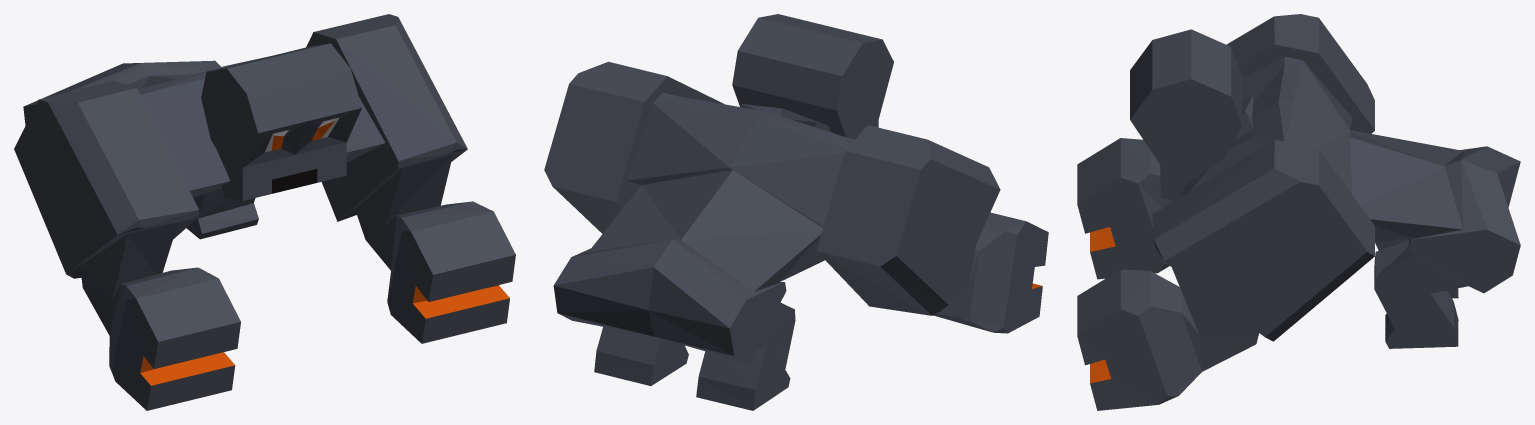
Rendered from kong_000025.obj.
3 views of the same model, side by side, from view 1: azimuth 30°, elevation 25°; view 2: azimuth 150°, elevation 25°; view 3: azimuth 270°, elevation 25° (orthographic). The views are drawn at different scales.
Visible parts, largest first — view 1: Cube; view 2: Cube; view 3: Cube.
Boxes of the visible parts, x1=… form: Cube: x1=14, y1=14, x2=515, y2=410; Cube: x1=544, y1=14, x2=1048, y2=410; Cube: x1=1077, y1=14, x2=1520, y2=410.
Size of the model in its own units: 5.84 by 4.28 by 6.36.
1 material, 1 textured.
